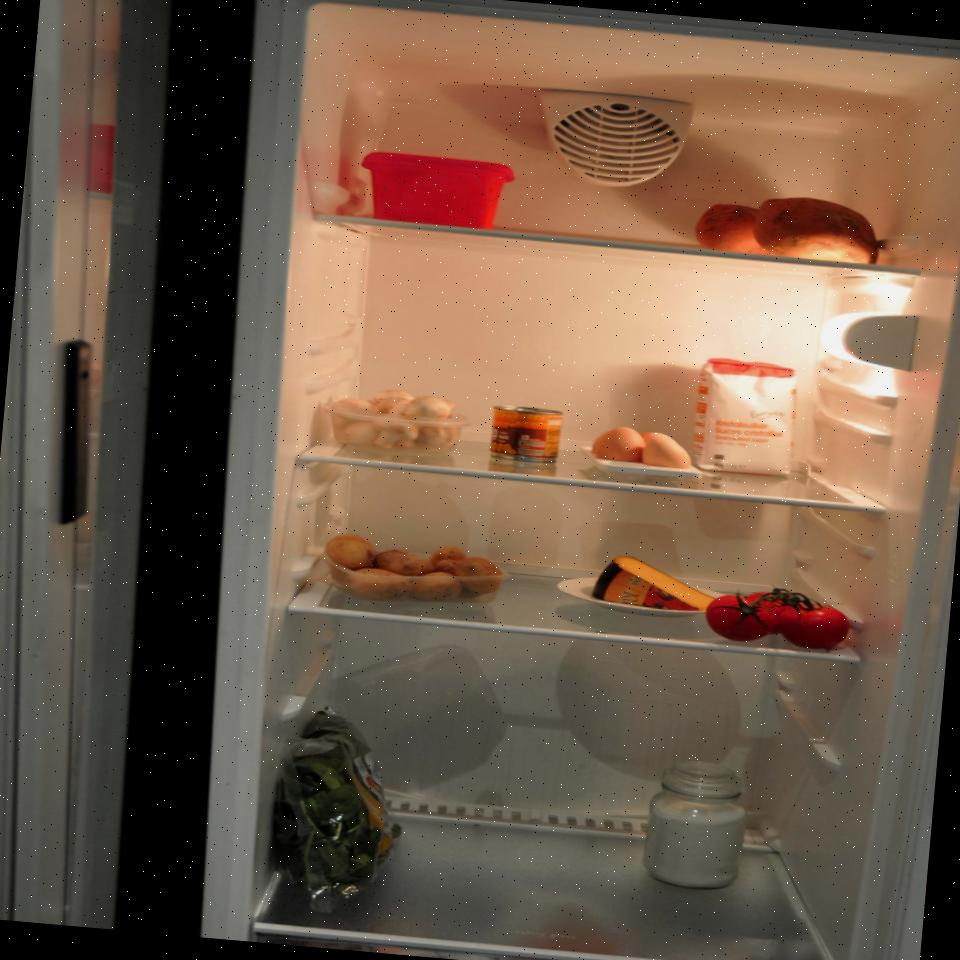Huevos: (592, 422, 697, 476)
Mantequilla: (353, 147, 516, 234)
Queso: (588, 552, 738, 619)
Tomate: (704, 579, 852, 653)
